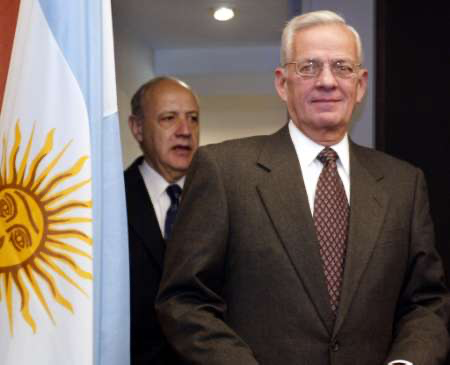Face: (286, 29, 358, 129), (153, 97, 200, 174)
